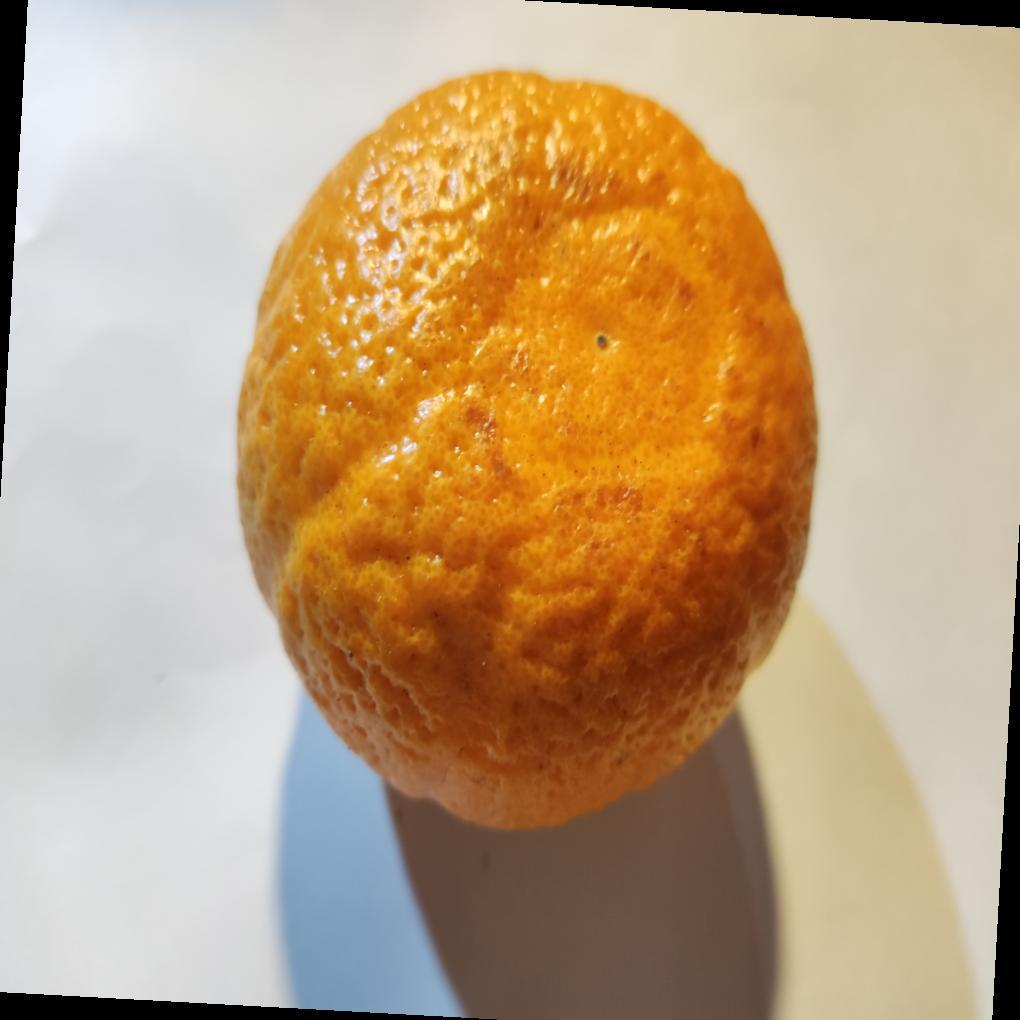FreshGuava: (234, 69, 821, 837)
